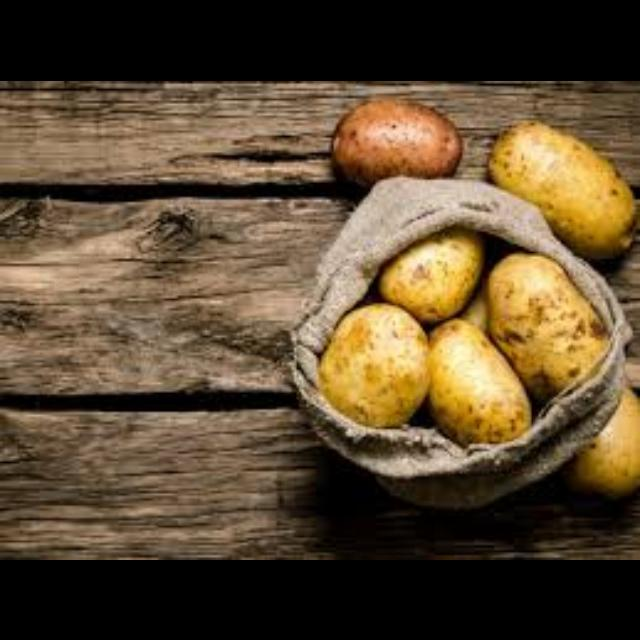Diseased-fungal potato: (486, 110, 640, 262), (309, 286, 443, 438), (312, 94, 470, 200), (426, 314, 536, 451)
